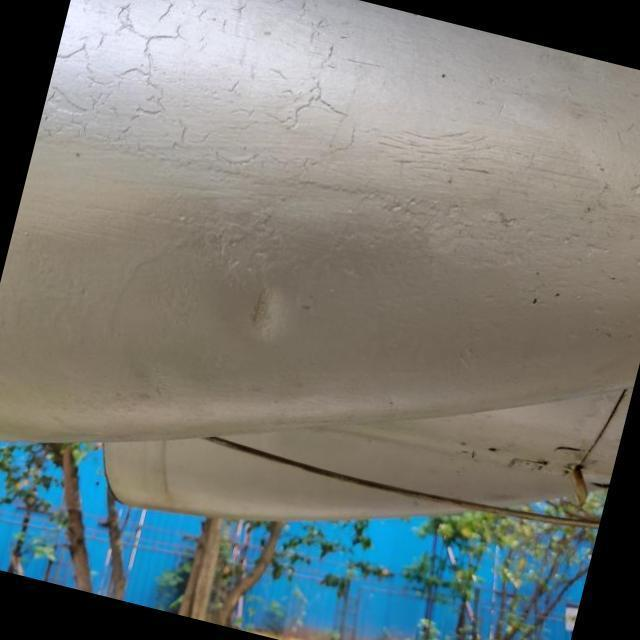Dent: (195, 240, 326, 372)
